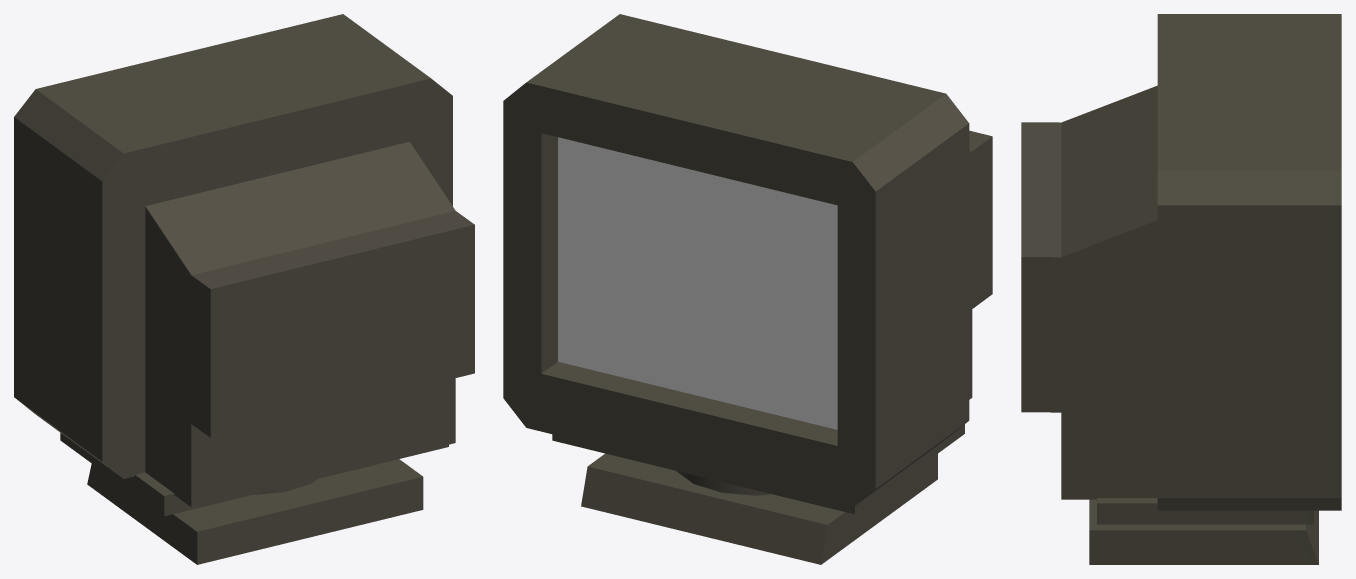
Rendered from Simple_Computer.glb.
3 renders of one model, left to right at view 1: azimuth 30°, elevation 25°; view 2: azimuth 150°, elevation 25°; view 3: azimuth 270°, elevation 25°, orthographic. The views are drawn at different scales.
Visible parts, largest first — view 1: pCube23; view 2: pCube23; view 3: pCube23.
Boxes of the visible parts, x1=… form: pCube23: x1=14, y1=14, x2=474, y2=564; pCube23: x1=503, y1=14, x2=992, y2=564; pCube23: x1=1021, y1=14, x2=1341, y2=564.
Bounding box in the file's own units: 0.9724 × 1.05 × 0.7362.
2 materials, 1 textured.
